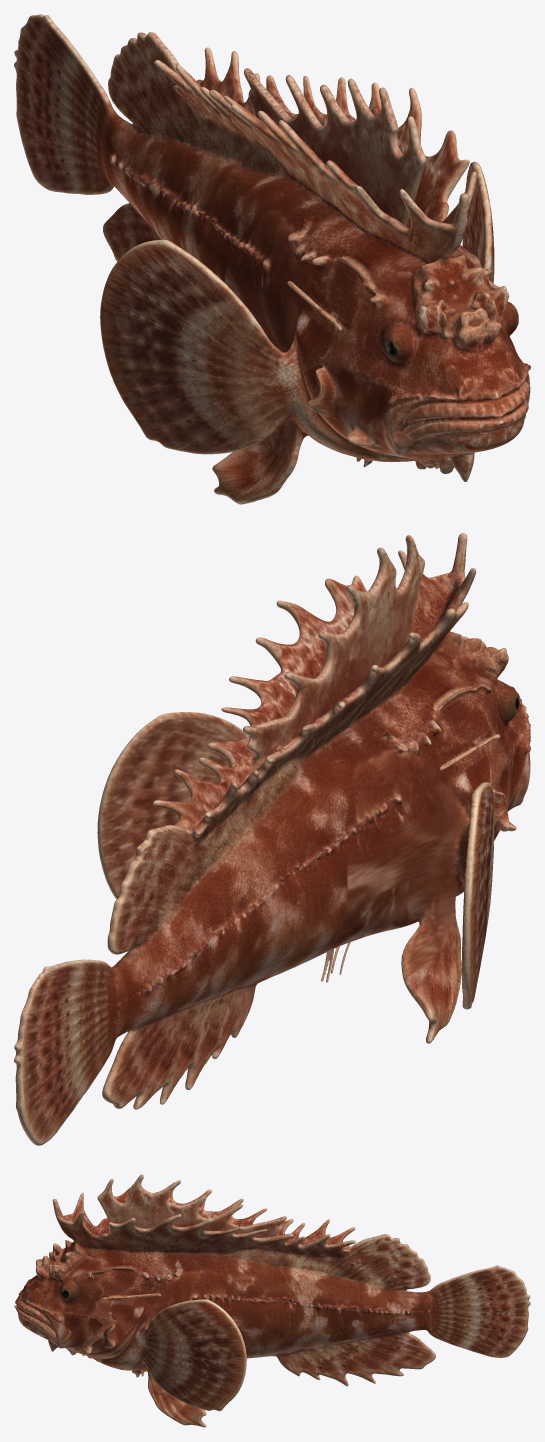
The model's file is haokoze-aa4303721629.glb.
3 renders of one model, top to bottom at view 1: azimuth 30°, elevation 25°; view 2: azimuth 150°, elevation 25°; view 3: azimuth 270°, elevation 25°, orthographic. The views are drawn at different scales.
Bounding box in the file's own units: 0.8376 × 0.9144 × 1.9.
Materials: 1 (1 with a texture image).
